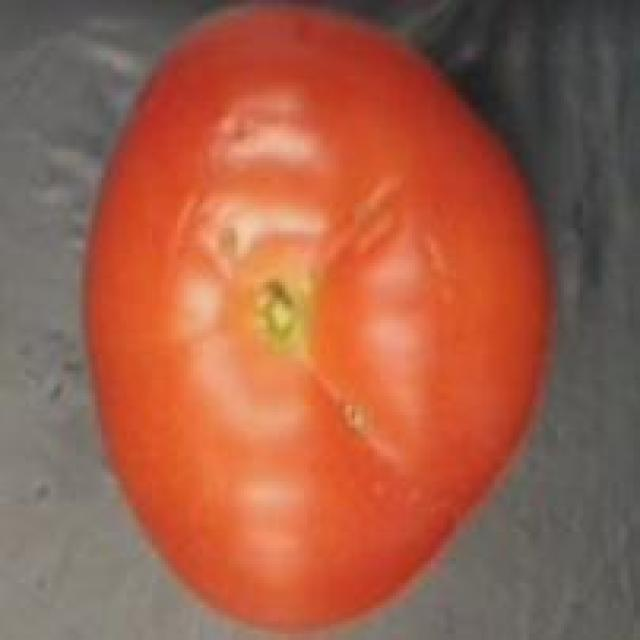overripe tomato: (66, 0, 580, 640)
